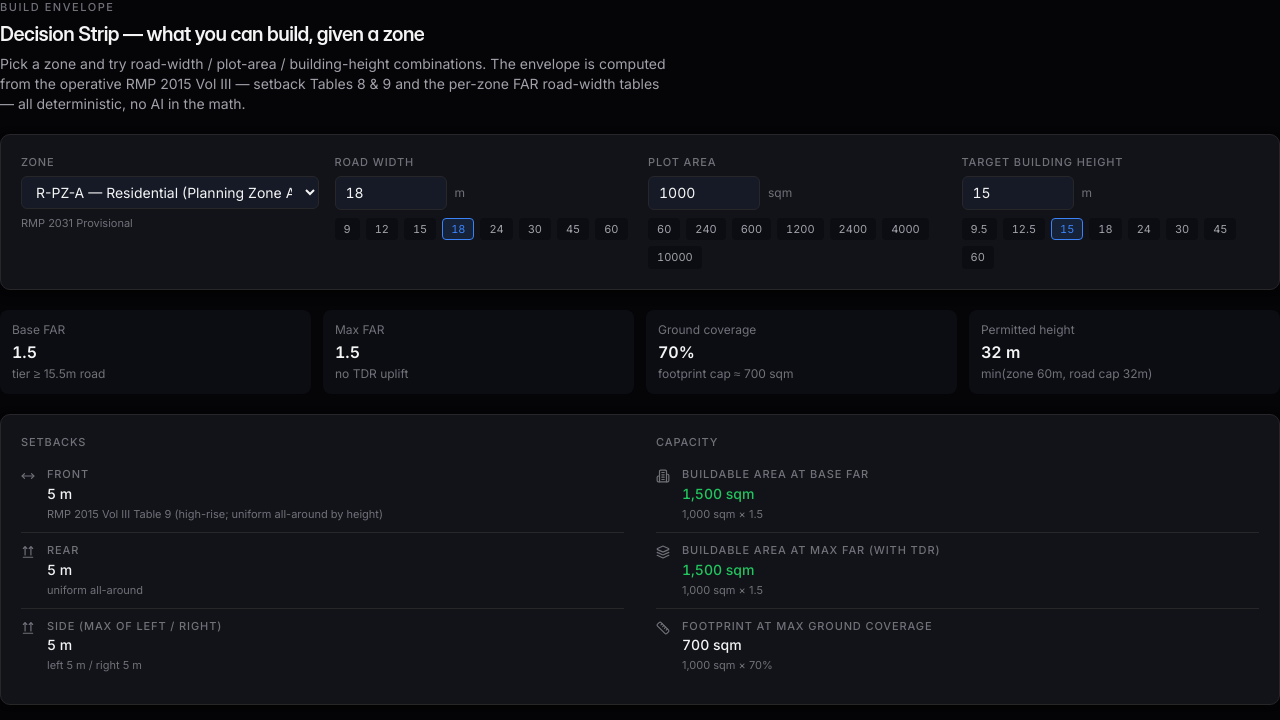
Test: DecisionStrip › shows a height-exceeded warning when target height > permitted ceiling
This screenshot has width=1280, height=720.
Replace the text in the number field below "Target building height" with "50" at (1018, 193), box 962,176 -> 1074,210
(page scrolled)
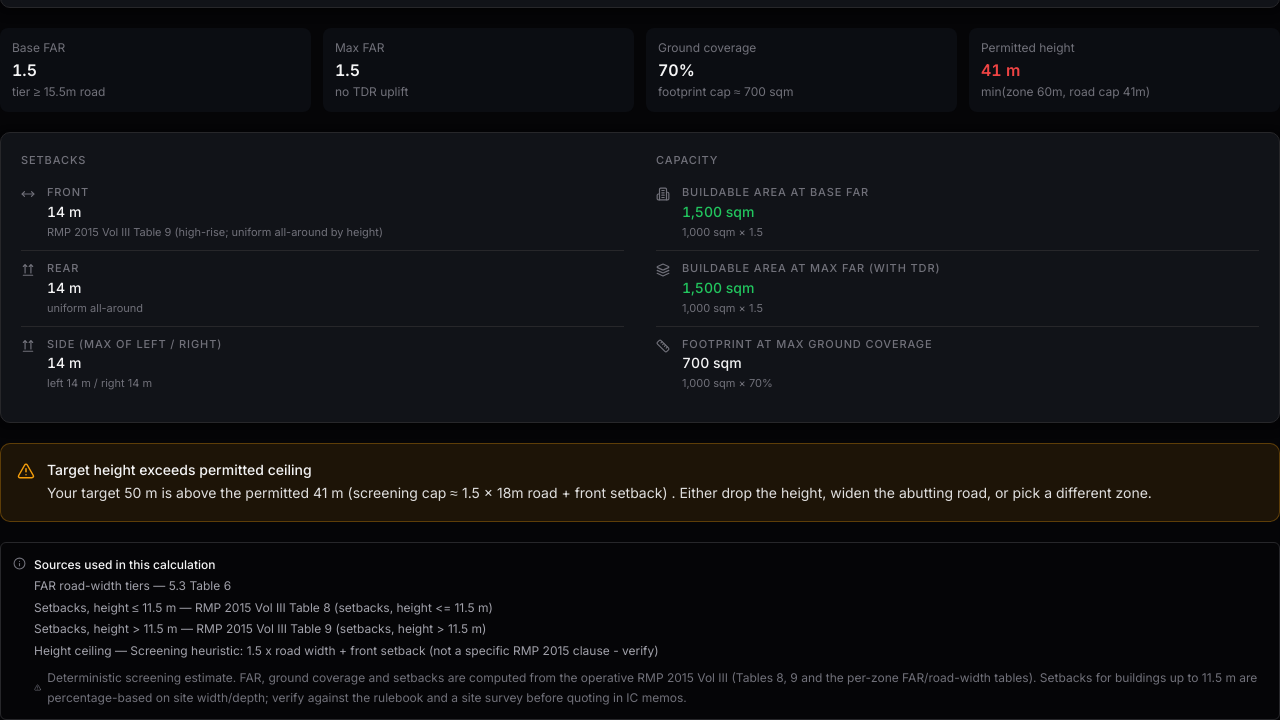
Now the text "Target height exceeds permitted ceiling" is shown, box 47,461 -> 312,478
